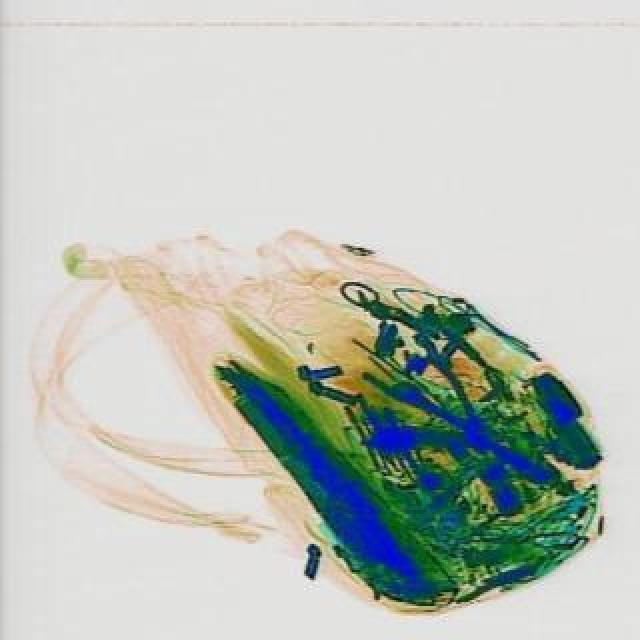wrench: (358, 324, 518, 468)
